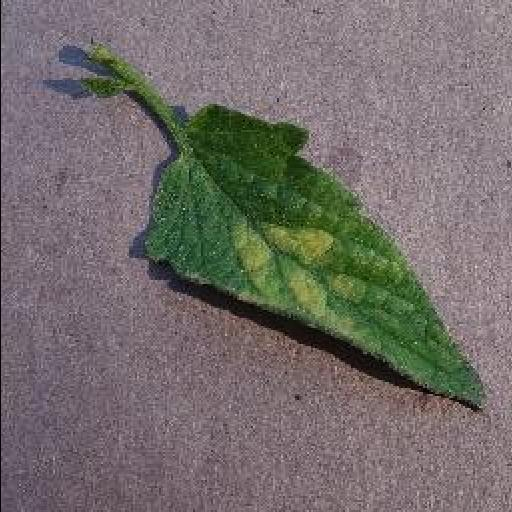disease_tomato: (141, 108, 491, 412)
